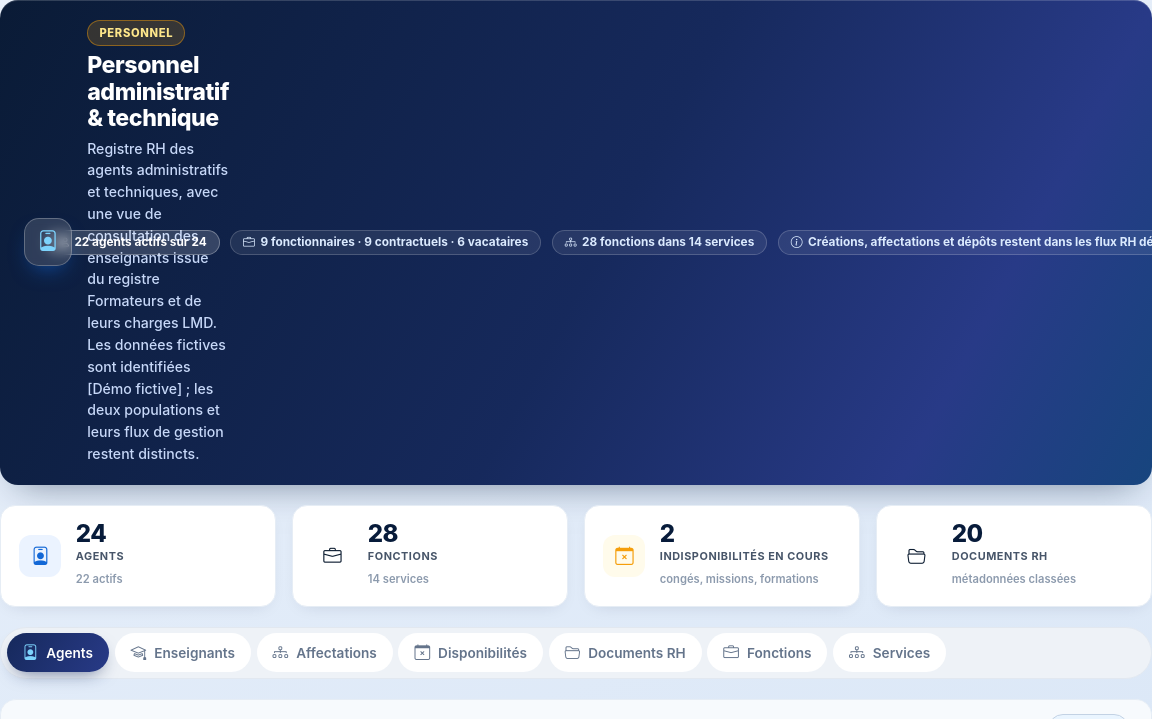
Test case: Hub Personnel premium › consulte le registre formateurs existant avec grade et enseignements sans le confondre avec les agents RH
Click the tab "Enseignants" at (183, 653), box 115,633 -> 251,672
(page scrolled)
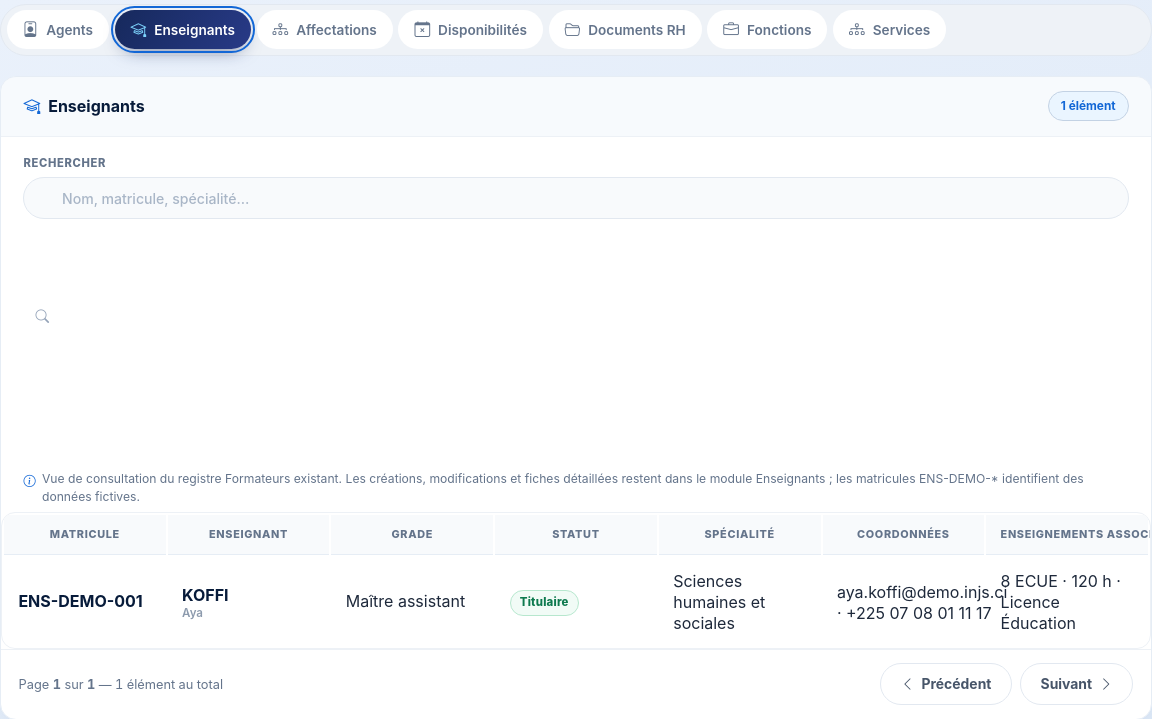
Check: the text "ENS-DEMO-001" is shown, box 18,591 -> 143,612
Check: the text "Maître assistant" is shown, box 346,591 -> 465,612
Check: the text "Titulaire" is shown, box 510,590 -> 579,616
